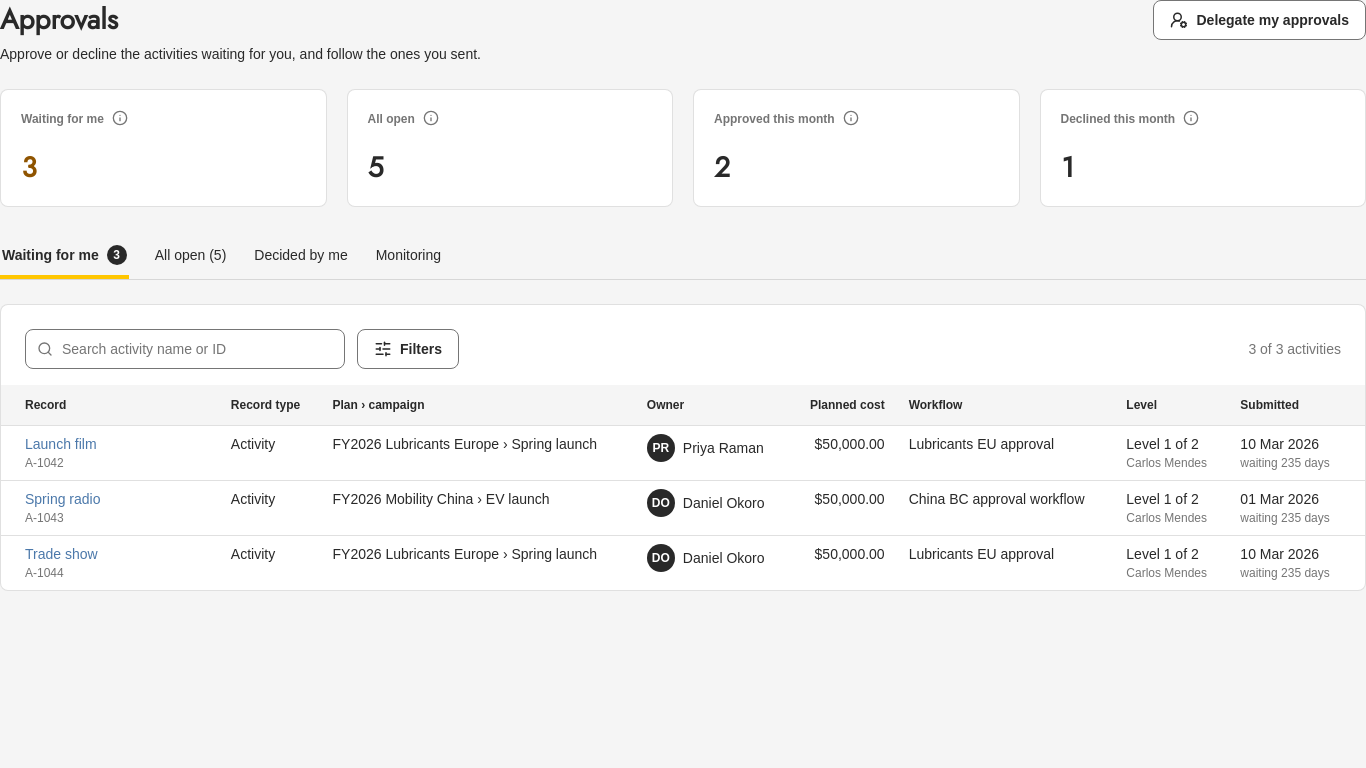
Test: ApprovalsPage (feature 008, US3) › opens the preview from a row, through the address (FR-032)
This screenshot has width=1366, height=768.
Click the button "Launch film". click: [61, 444]
box: [25,434,97,454]
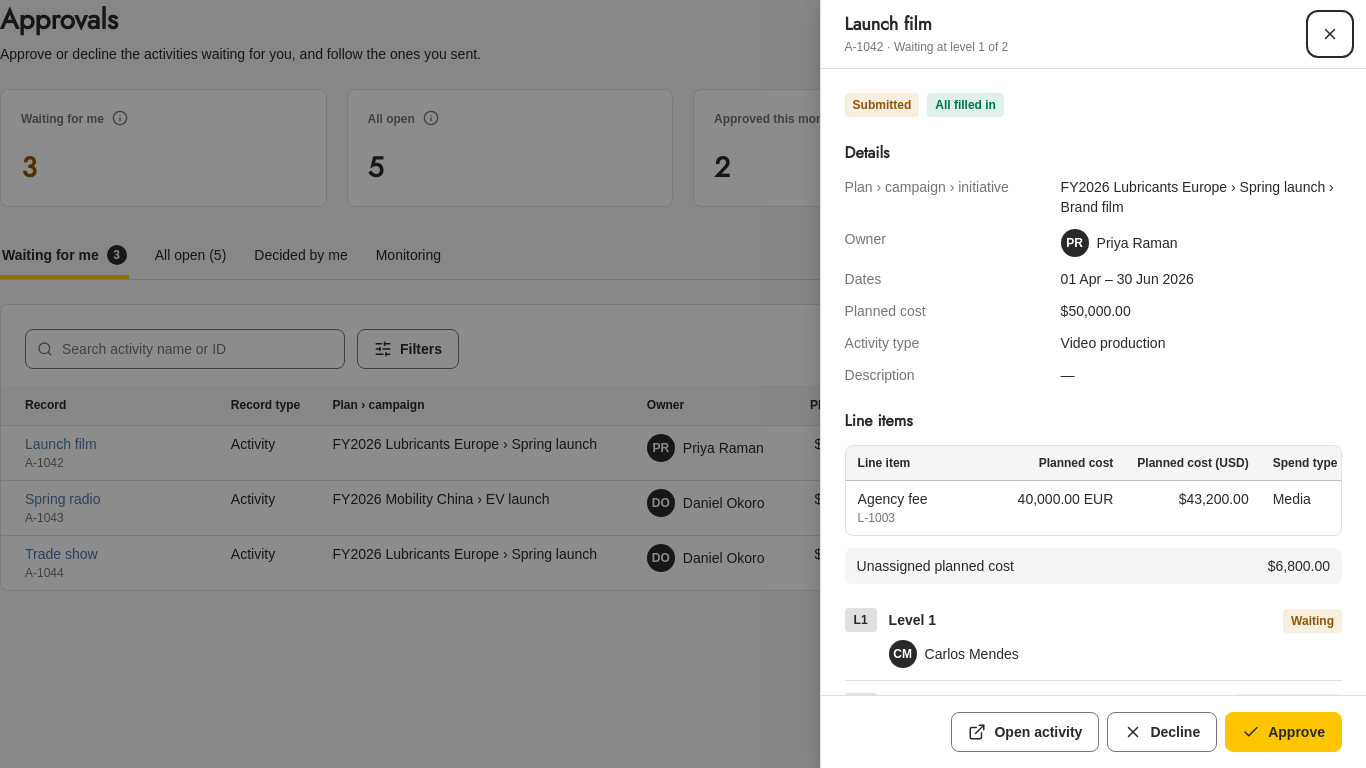
Expected: the dialog "Launch film" is shown, [820,0,1365,767]
